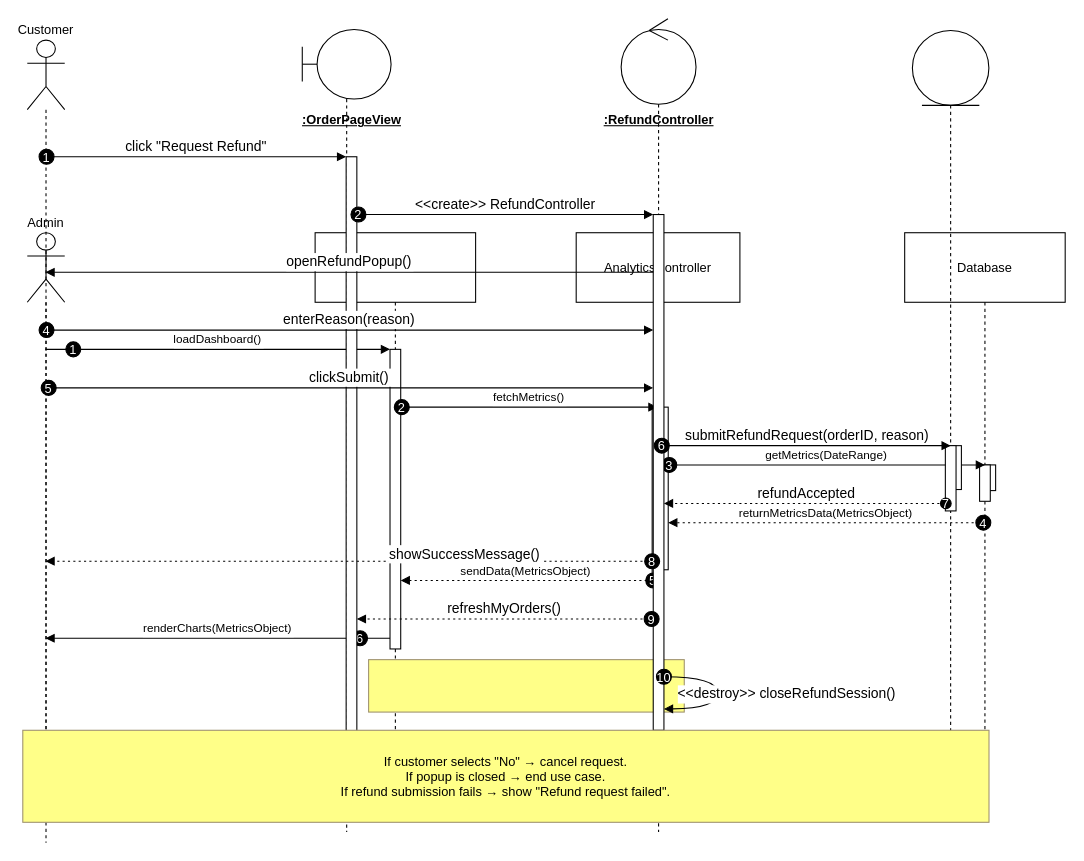
Some shapes in this 1084 by 861 pixel diagram are drawn without their labels. Each missing label, with the box of its shape:
:RefundTickets: (911, 29, 989, 822)
Dashboard display successful.: (368, 659, 684, 712)
DashboardPage: (314, 232, 476, 803)
